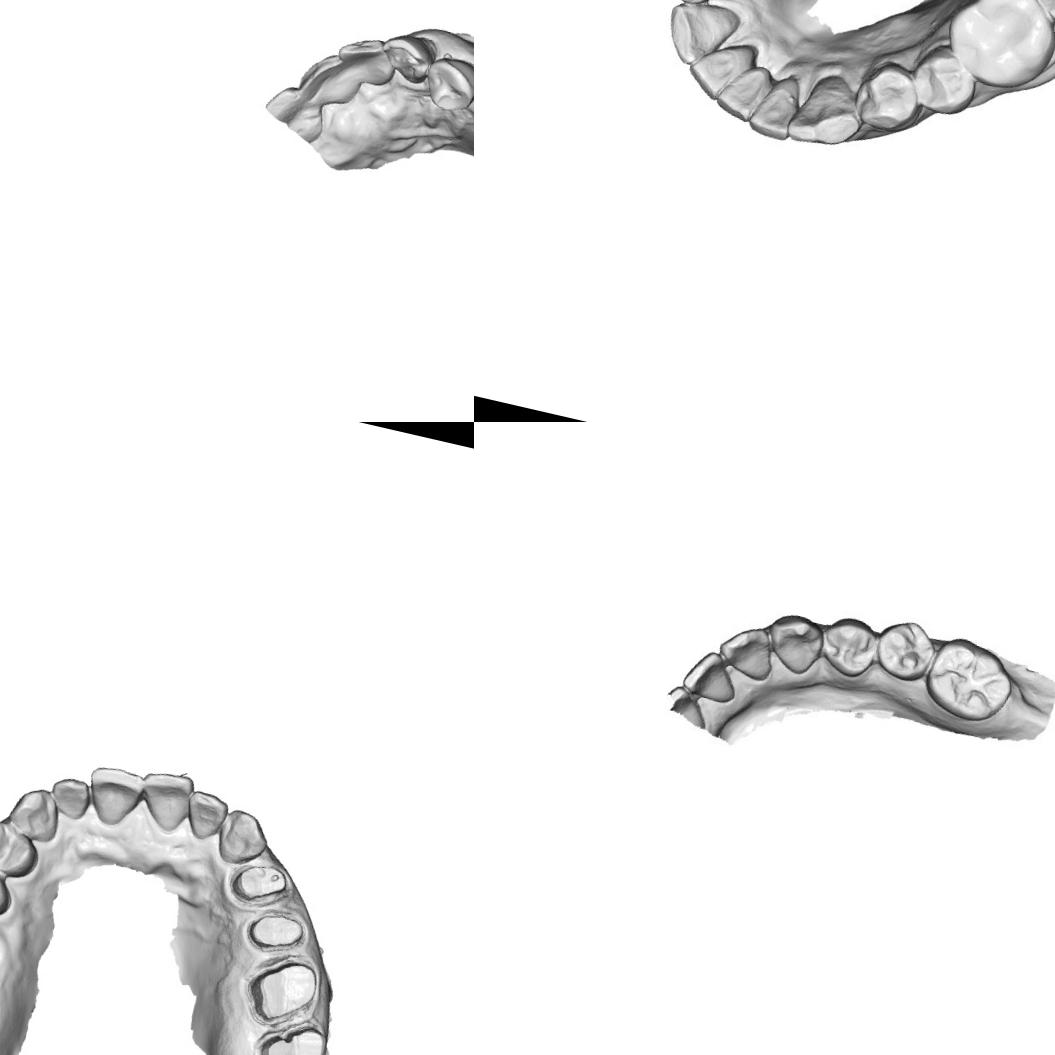canine: (782, 77, 866, 155), (656, 0, 733, 74), (764, 608, 832, 683), (372, 25, 440, 89), (210, 804, 274, 870), (3, 782, 65, 848)
crown: (242, 949, 327, 1034), (242, 904, 309, 960), (226, 856, 293, 912), (248, 1013, 333, 1055)
incisor: (681, 33, 756, 108), (132, 764, 198, 836), (710, 55, 775, 127), (259, 80, 331, 144), (80, 762, 147, 830), (294, 47, 365, 111), (331, 30, 402, 92), (680, 645, 748, 708), (717, 619, 782, 683), (746, 79, 803, 144), (179, 787, 232, 844), (46, 773, 95, 822)
molar: (934, 0, 1055, 98), (922, 630, 1020, 726)
premolar: (904, 41, 984, 121), (848, 59, 926, 139), (874, 616, 940, 685), (819, 614, 884, 682), (419, 50, 474, 118), (0, 814, 46, 883), (0, 856, 18, 924)
